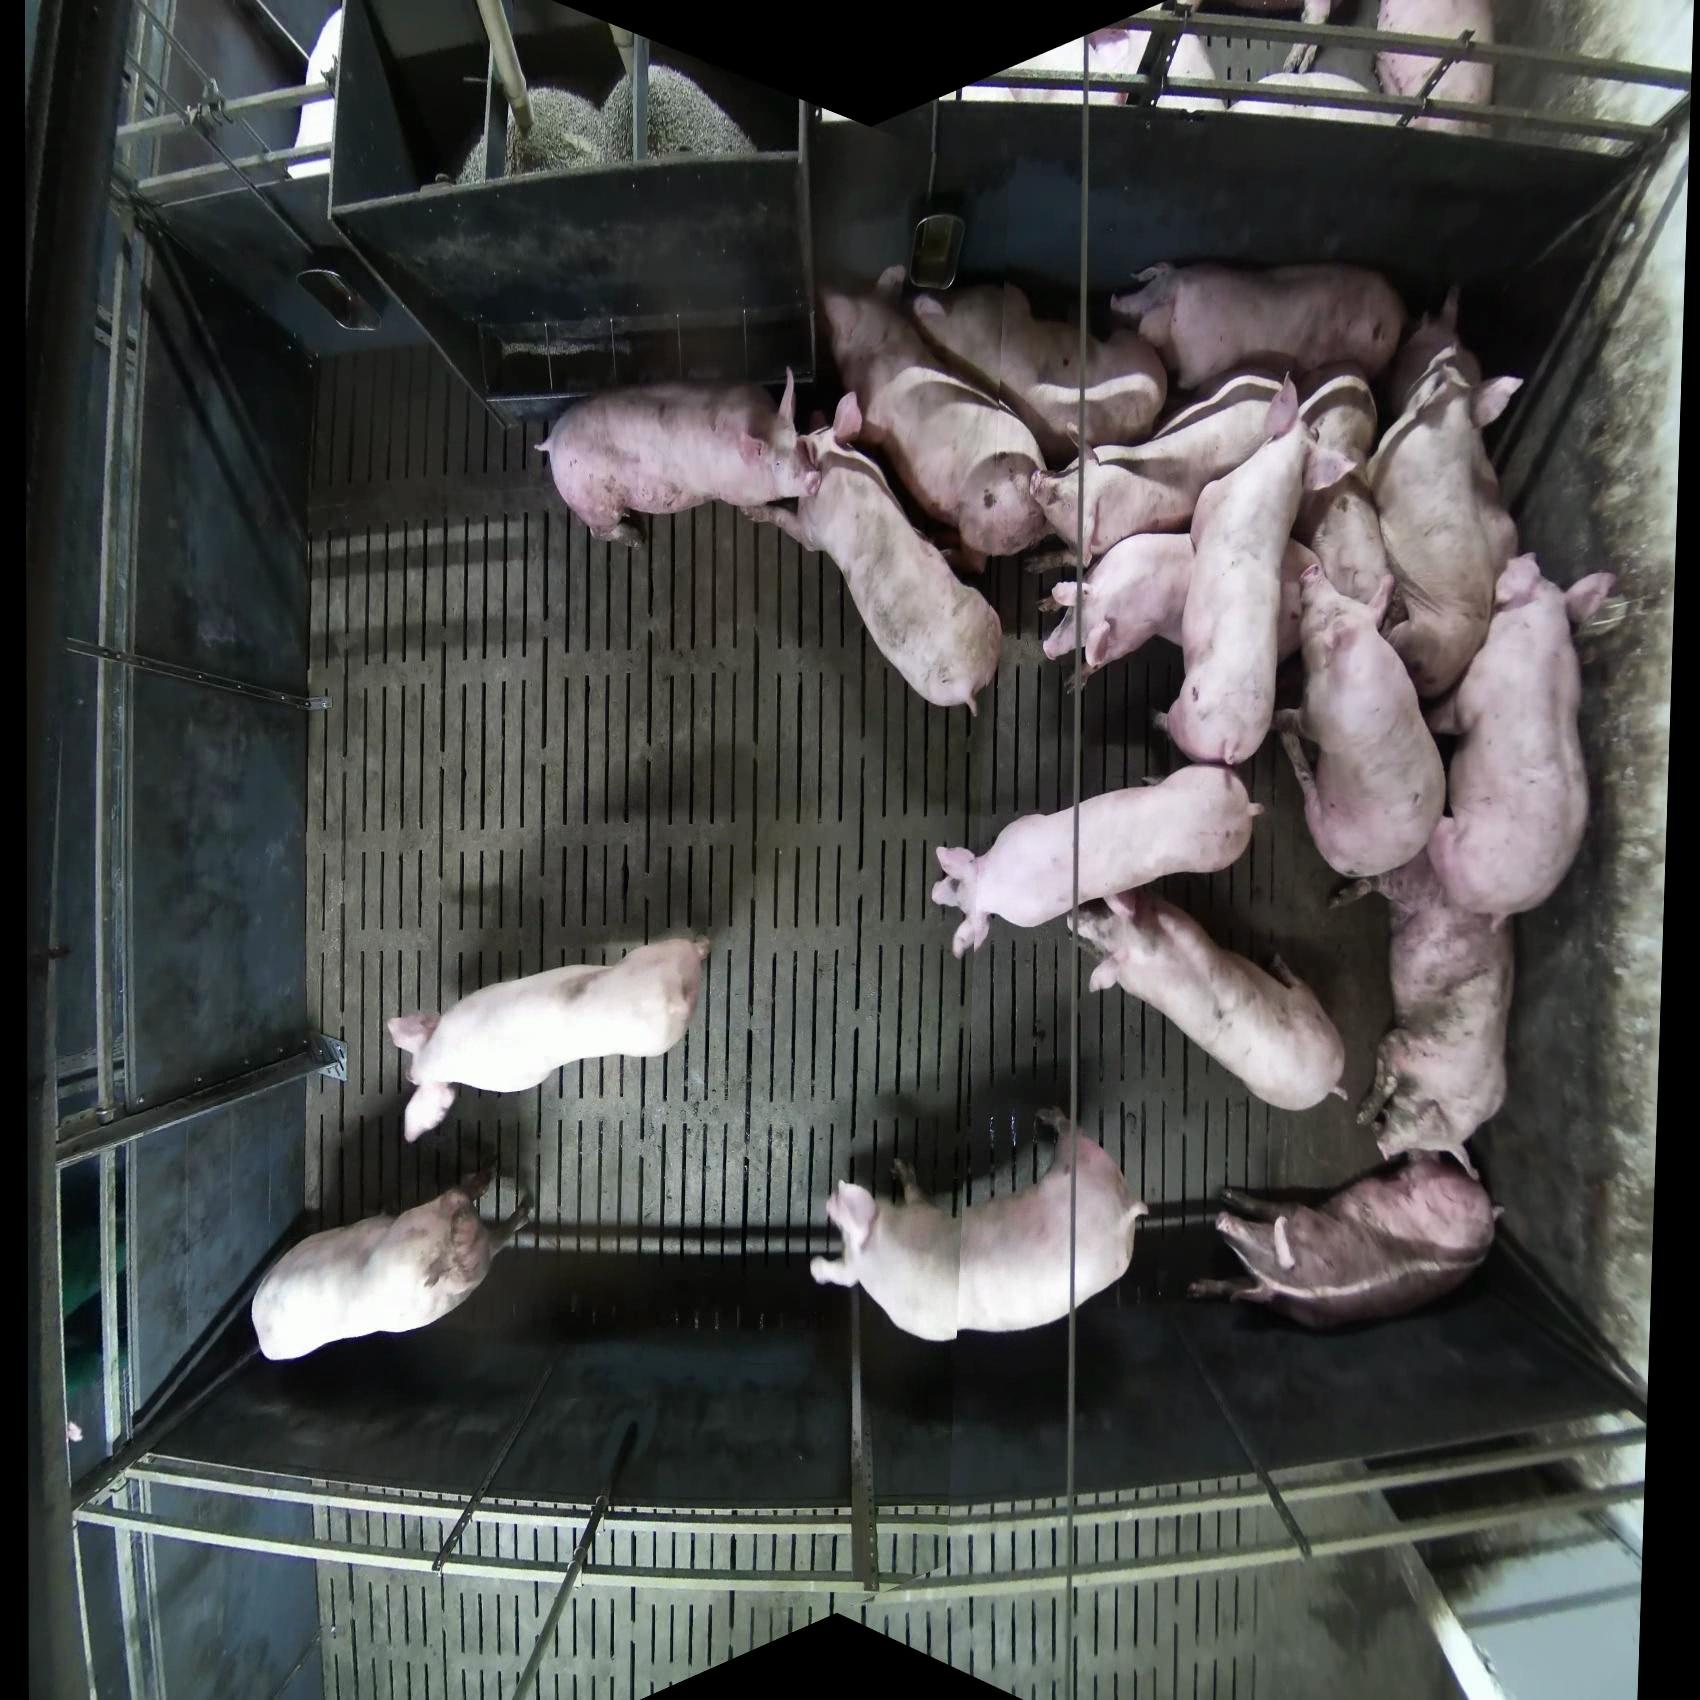pig: (810, 1105, 1150, 1343), (739, 431, 1006, 719), (1426, 551, 1621, 922), (385, 929, 711, 1144), (817, 268, 1051, 565), (931, 761, 1266, 959), (1066, 886, 1350, 1115), (1158, 372, 1322, 767), (1337, 848, 1518, 1177), (1186, 1147, 1505, 1333), (251, 1164, 536, 1364), (1280, 553, 1449, 884), (1365, 355, 1526, 704), (1029, 363, 1298, 560), (534, 369, 827, 550), (911, 279, 1169, 465), (1108, 258, 1407, 392), (445, 64, 760, 187), (1038, 532, 1194, 694), (1295, 366, 1386, 610), (1375, 2, 1498, 137), (448, 86, 615, 184), (599, 62, 758, 163), (1382, 283, 1474, 420), (288, 5, 346, 182)
